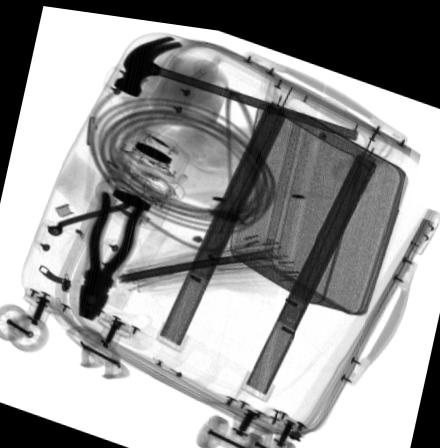Hammer: (114, 30, 357, 130)
Pliers: (77, 186, 146, 318)
Wrench: (44, 193, 135, 234)
